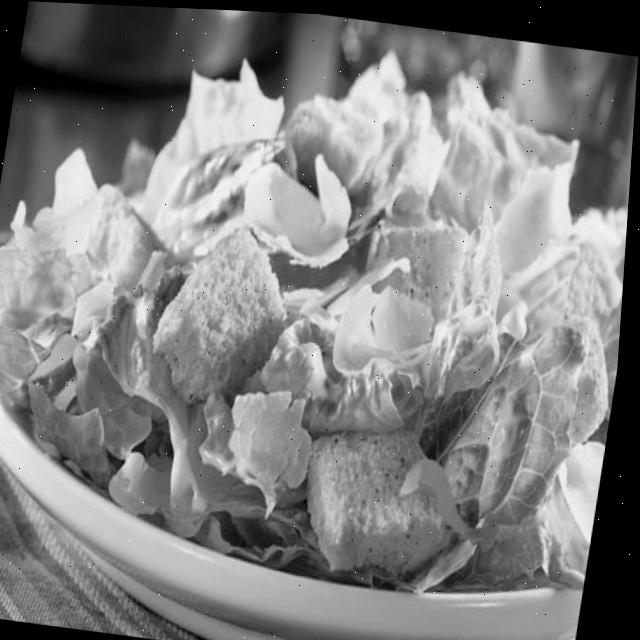蔬菜料理: (0, 6, 640, 639)
